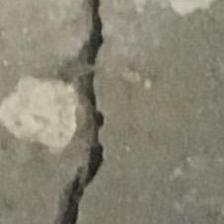Crack: (46, 0, 133, 224)
